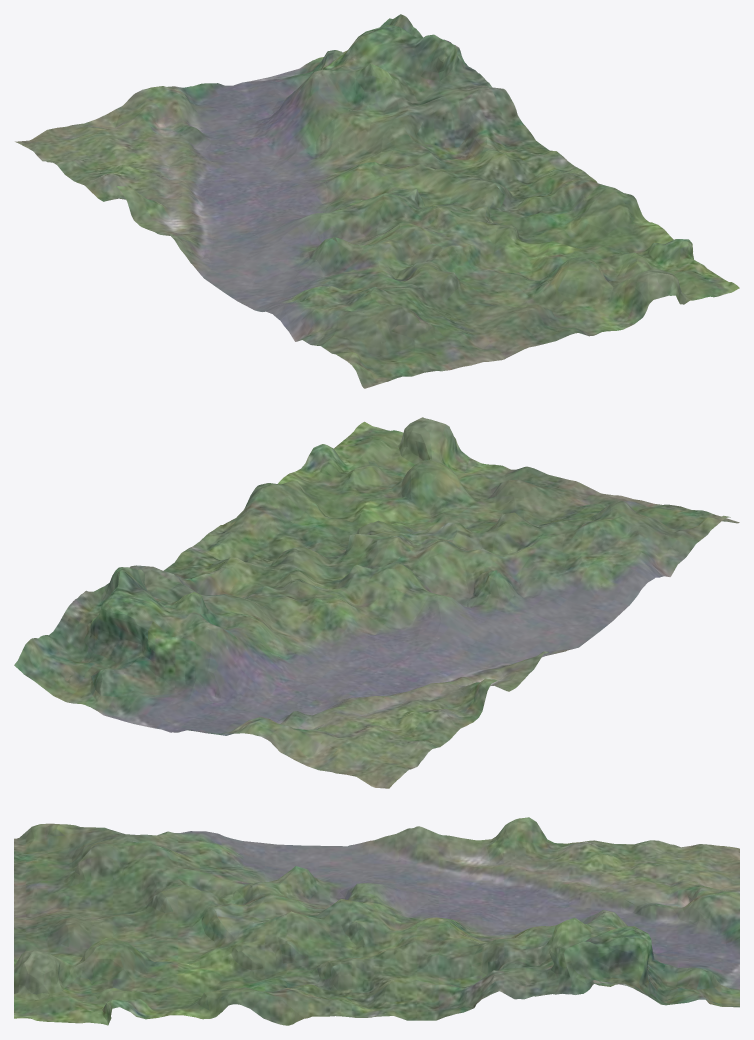
File: Tile_+000_+007_L22_00012100.glb
The picture shows the model from 3 angles, top to bottom: view 1: azimuth 30°, elevation 25°; view 2: azimuth 150°, elevation 25°; view 3: azimuth 270°, elevation 25°; orthographic projection. The views are drawn at different scales.
Parts seen in each view (by area): view 1: rtc; view 2: rtc; view 3: rtc.
Boxes of the visible parts, x1=… form: rtc: x1=15, y1=14, x2=739, y2=388; rtc: x1=14, y1=417, x2=739, y2=788; rtc: x1=14, y1=817, x2=739, y2=1025.
Size of the model in its own units: 15.49 by 3.2 by 25.06.
Materials: 1 (1 with a texture image).
